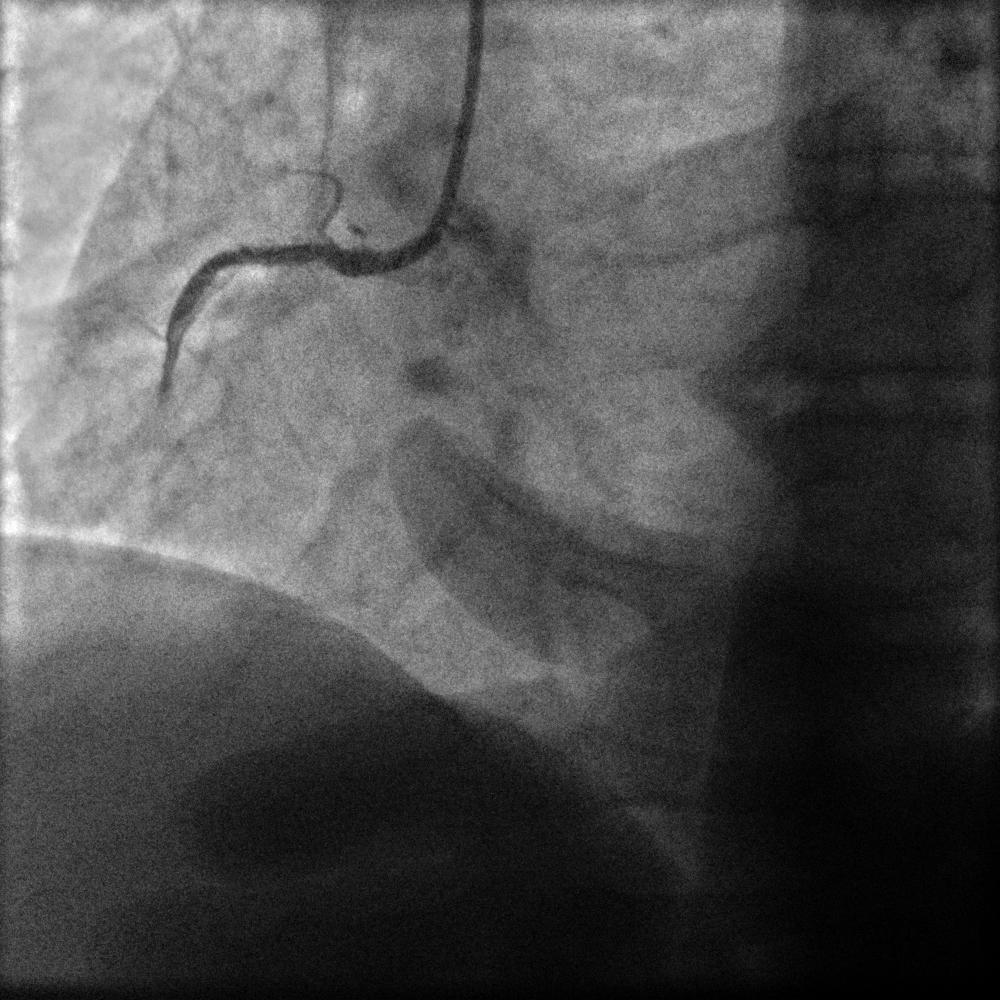Stenosis: (290, 221, 356, 280)
